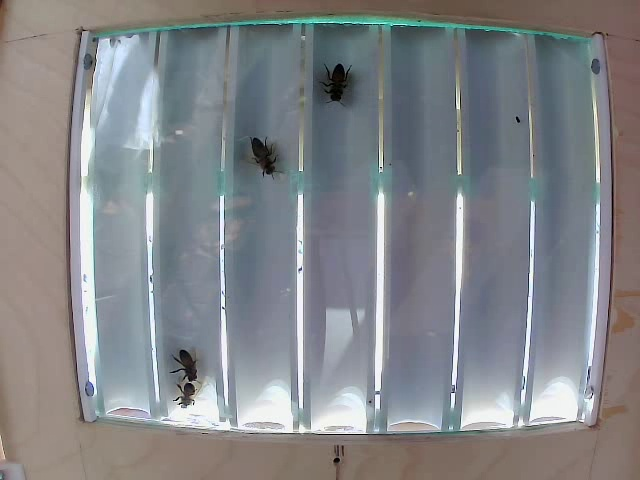bee: (249, 133, 284, 186), (328, 53, 360, 109), (174, 344, 218, 373)
